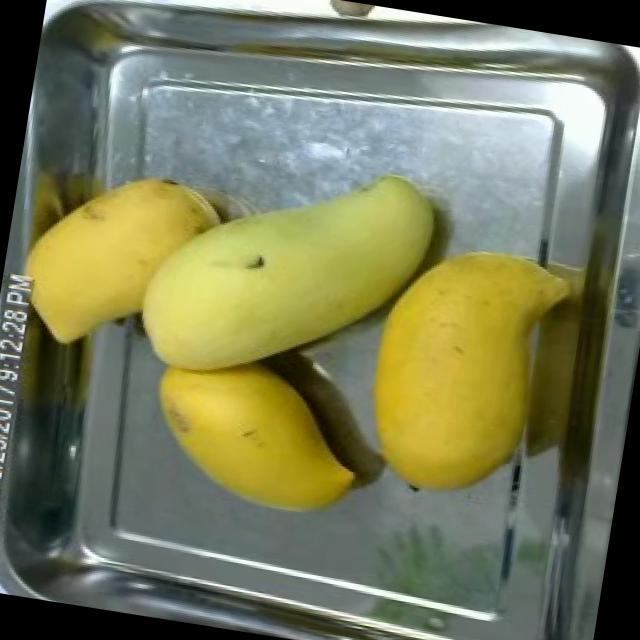fruit: (119, 128, 461, 415), (342, 221, 590, 522), (5, 146, 237, 372), (132, 332, 384, 534)
